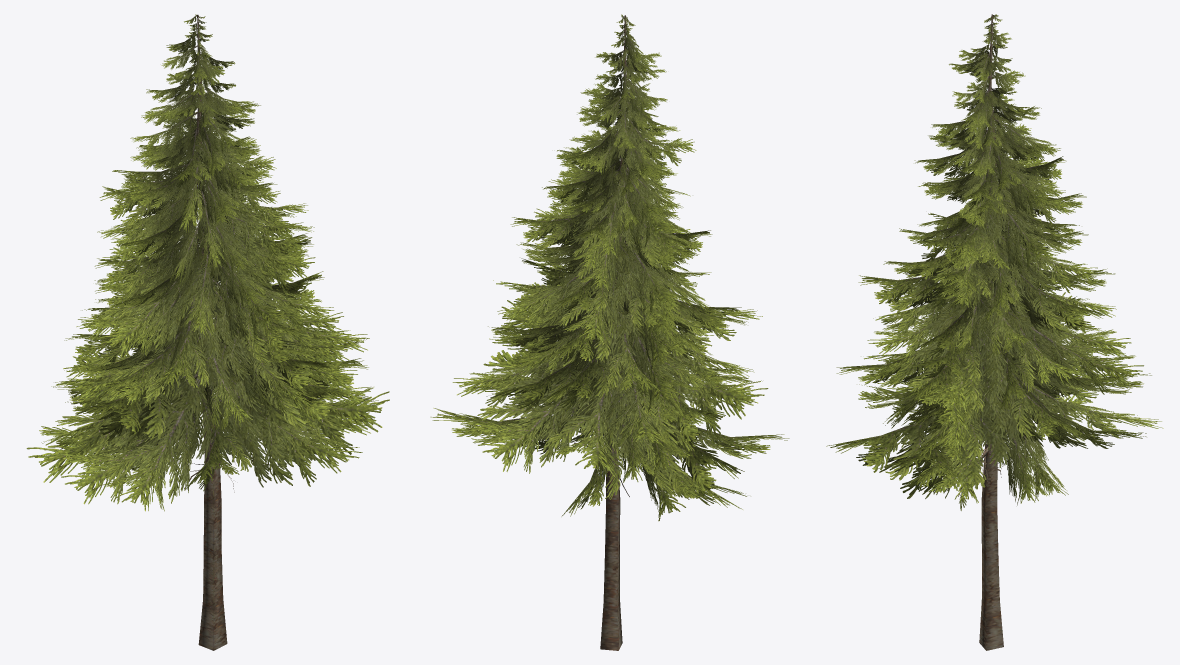
File: SM_PineTree_01.fbx
3 views of the same model, side by side, from view 1: azimuth 30°, elevation 25°; view 2: azimuth 150°, elevation 25°; view 3: azimuth 270°, elevation 25° (orthographic).
Visible parts, largest first — view 1: SM_PineTree_01; view 2: SM_PineTree_01; view 3: SM_PineTree_01.
Part boxes in pixels (x1,y1,x2,y2): SM_PineTree_01: [26, 14, 389, 650]; SM_PineTree_01: [430, 14, 789, 650]; SM_PineTree_01: [826, 14, 1163, 650].
Size of the model in its own units: 634 by 1250 by 620.
